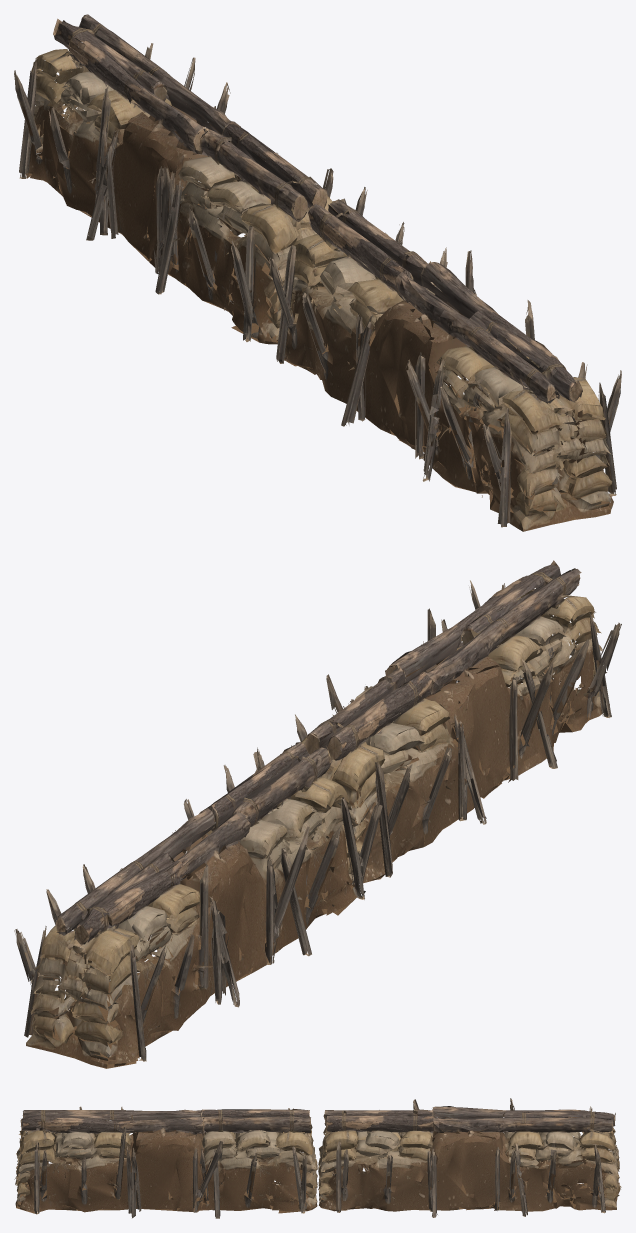
Rendered from parapeto.glb.
3 views of the same model, one above another, from view 1: azimuth 30°, elevation 25°; view 2: azimuth 150°, elevation 25°; view 3: azimuth 270°, elevation 25° (orthographic). The views are drawn at different scales.
Visible parts, largest first — view 1: parapeto; view 2: parapeto; view 3: parapeto.
Part boxes in pixels (x1=…): parapeto: x1=14, y1=14, x2=621, y2=531; parapeto: x1=14, y1=560, x2=621, y2=1068; parapeto: x1=14, y1=1098, x2=621, y2=1218.
Bounding box in the file's own units: 1.13 × 1.03 × 6.48.
Materials: 1 (1 with a texture image).
